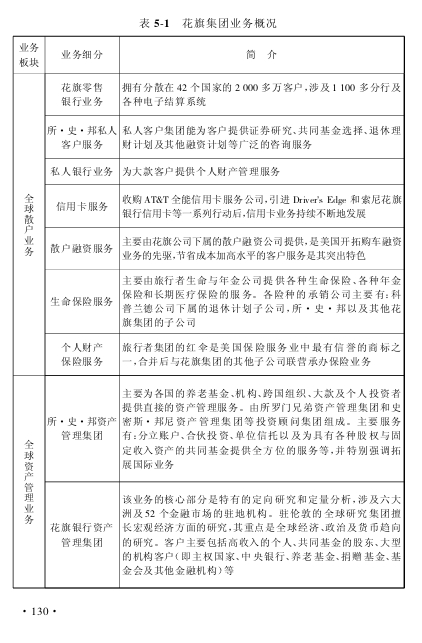table: (12, 35, 405, 589)
